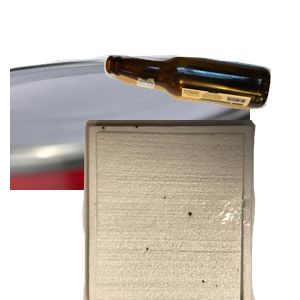glass: (101, 52, 300, 154)
metal: (10, 52, 250, 232)
plastic: (55, 120, 284, 300)
trash: (80, 120, 300, 300)
